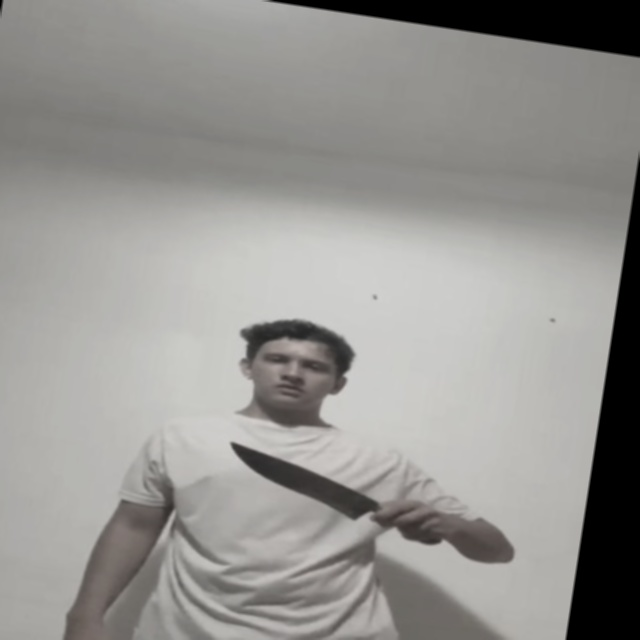Sharp-Object: (225, 442, 379, 519)
